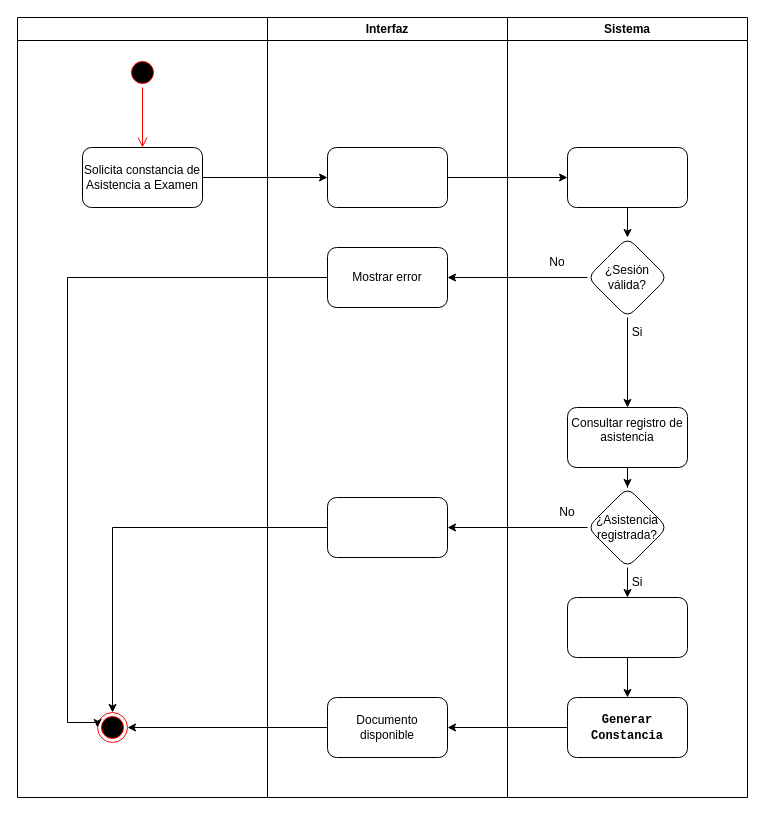
Image size: 765x815. Some labels were removed from this diagram. The shapes that lost their labels are listed below. From the top down, each one's box as (x1, y1, x2, y2) in pixels, then its label:
(326, 146, 448, 208): Enviar solicitud a Sistema
(566, 146, 688, 208): Verifica sesión
(16, 16, 268, 798): Estudiante
(326, 496, 448, 558): Mostrar: sin registro
(566, 596, 688, 658): Registrar solicitud
